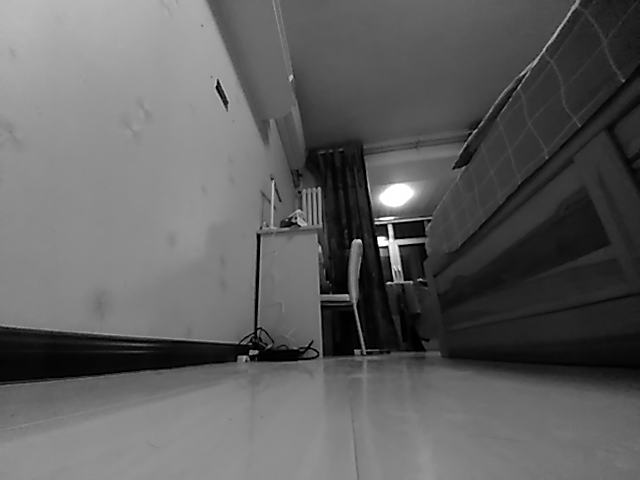curtain: (304, 141, 402, 353)
wire: (237, 326, 321, 362)
